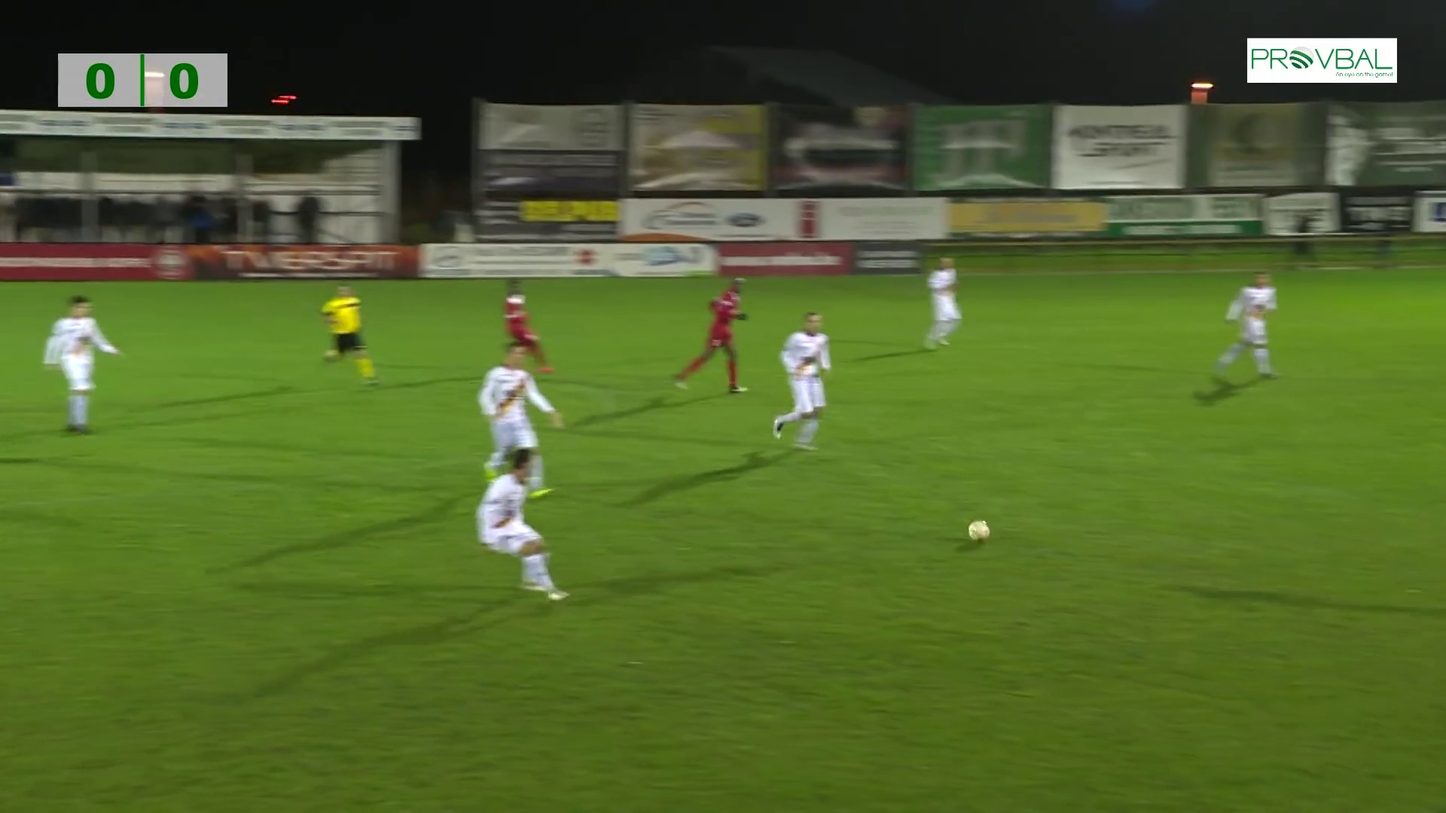red_team: (675, 272, 750, 400), (499, 278, 557, 376)
referee: (319, 284, 385, 385)
white_team: (471, 452, 576, 603), (481, 340, 562, 500), (39, 293, 117, 433), (772, 312, 837, 453), (1218, 265, 1286, 385), (926, 255, 966, 350)
